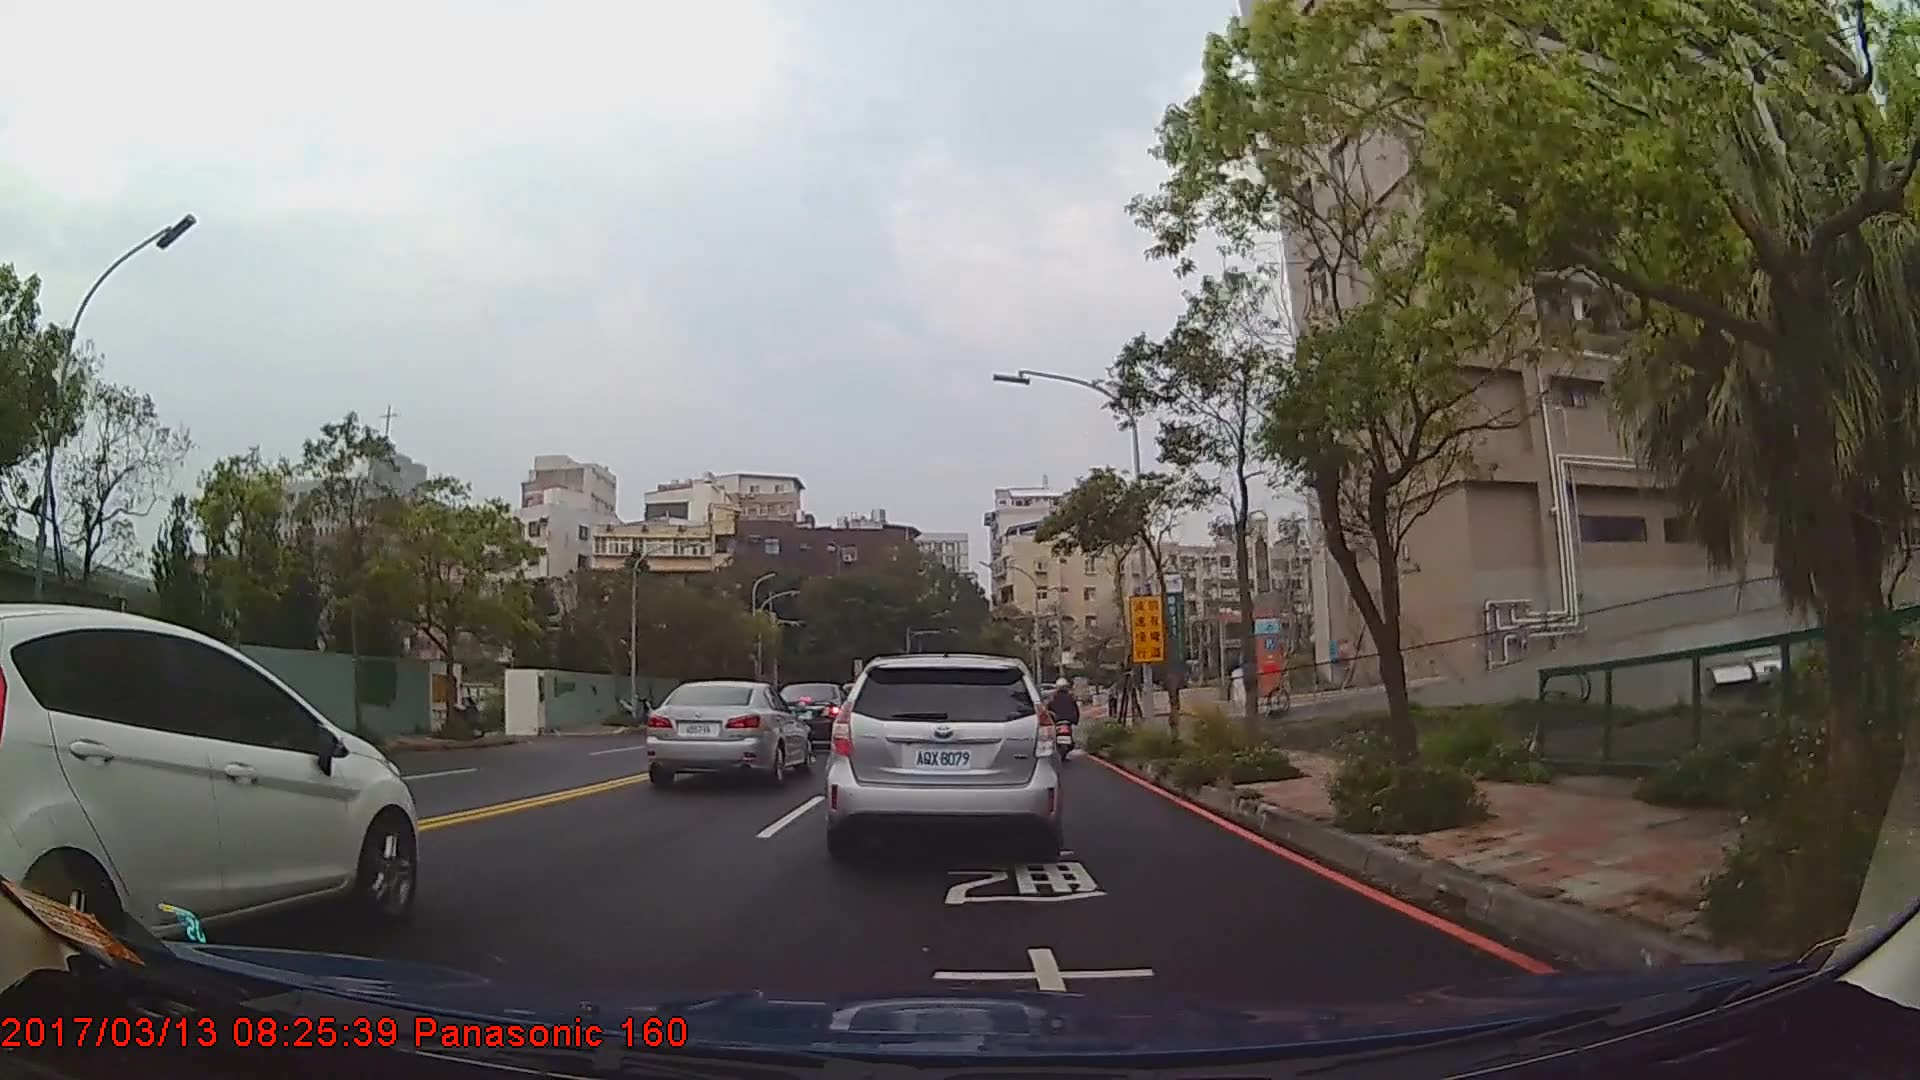rider: (1051, 679, 1082, 761)
vehicle: (0, 599, 421, 976), (825, 650, 1062, 849), (647, 678, 811, 787), (774, 679, 856, 745)
